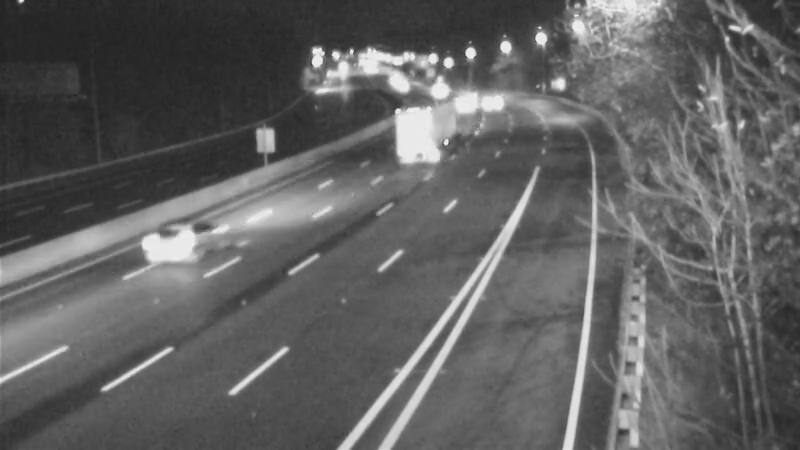vehicle: (128, 206, 208, 286), (377, 61, 427, 111), (406, 64, 456, 114), (461, 72, 511, 122), (440, 80, 490, 130), (397, 101, 447, 151)
